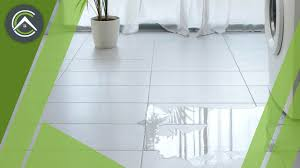Wet-floor: (146, 94, 267, 164)
